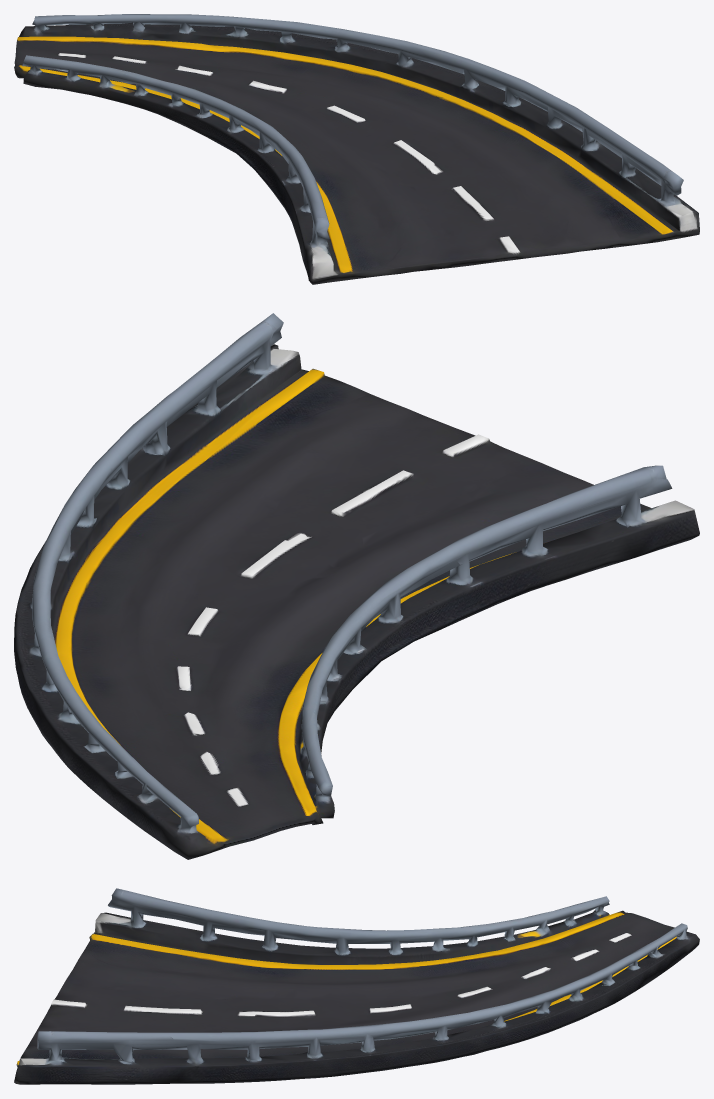
Rendered from twolanecurveleft.glb.
3 views of the same model, one above another, from view 1: azimuth 30°, elevation 25°; view 2: azimuth 150°, elevation 25°; view 3: azimuth 270°, elevation 25° (orthographic). The views are drawn at different scales.
Visible parts, largest first — view 1: tripo_node_8fab8368-a009-46dd-99dc-5f54015ac0ae; view 2: tripo_node_8fab8368-a009-46dd-99dc-5f54015ac0ae; view 3: tripo_node_8fab8368-a009-46dd-99dc-5f54015ac0ae.
Part boxes in pixels (x1,y1,x2,y2): tripo_node_8fab8368-a009-46dd-99dc-5f54015ac0ae: (14,14,699,284); tripo_node_8fab8368-a009-46dd-99dc-5f54015ac0ae: (14,313,699,859); tripo_node_8fab8368-a009-46dd-99dc-5f54015ac0ae: (14,888,699,1084).
Size of the model in its own units: 0.561 by 0.0789 by 1.
Materials: 1 (1 with a texture image).
